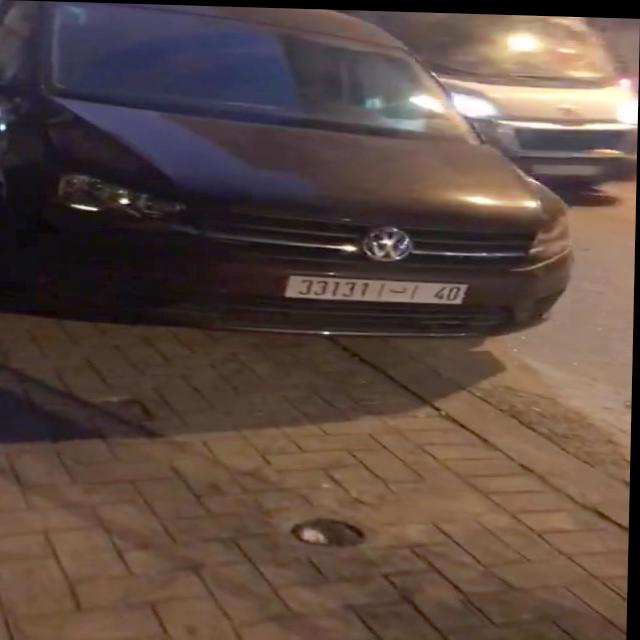License-Plate: (289, 273, 470, 300)
